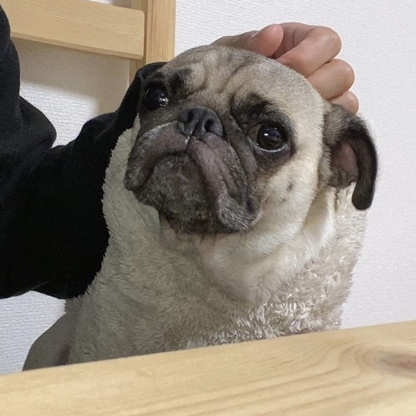Pug: (19, 39, 387, 375)
